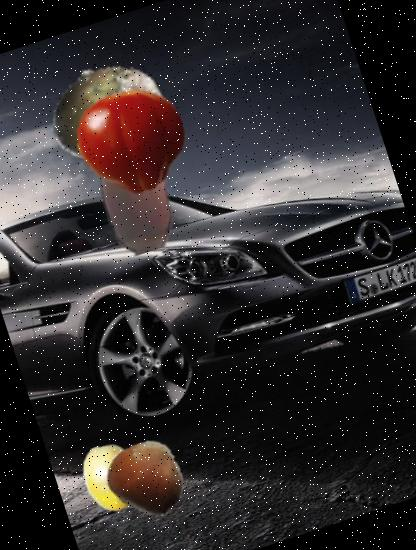Cactus: (33, 38, 182, 186)
Hazelnut: (47, 96, 221, 270)
Maracuja: (68, 433, 154, 520)
Nut: (100, 428, 196, 524)
Tomato: (64, 74, 200, 210)
